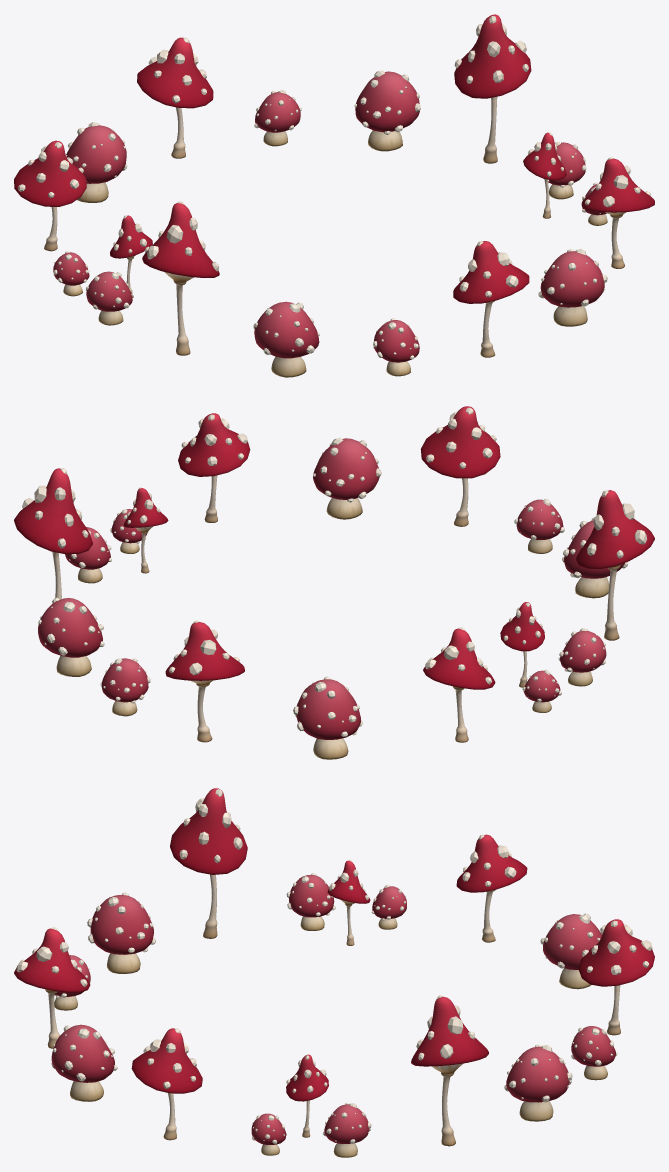
Rendered from FairyCircle.fbx.
The picture shows the model from 3 angles, top to bottom: view 1: azimuth 30°, elevation 25°; view 2: azimuth 150°, elevation 25°; view 3: azimuth 270°, elevation 25°; orthographic projection.
Visible parts, largest first — view 1: Mushrooms; view 2: Mushrooms; view 3: Mushrooms.
Part boxes in pixels (x1,y1,x2,y2): Mushrooms: [14, 14, 654, 377]; Mushrooms: [14, 406, 654, 759]; Mushrooms: [14, 788, 654, 1157].
Size of the model in its own units: 208 by 57.87 by 228.
